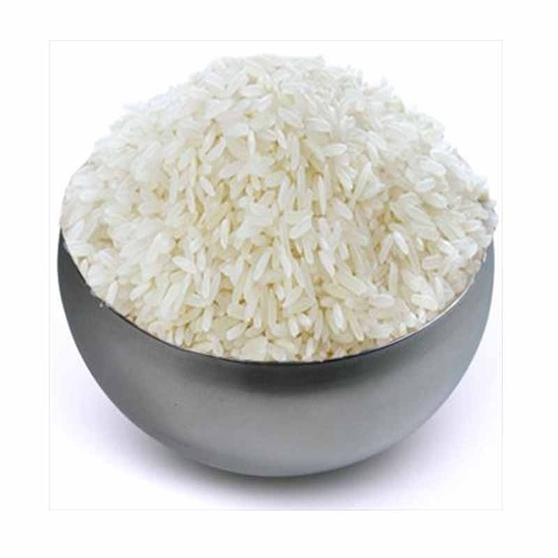rice: (109, 64, 452, 315)
